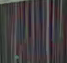No Stopping: (6, 4, 57, 53)
